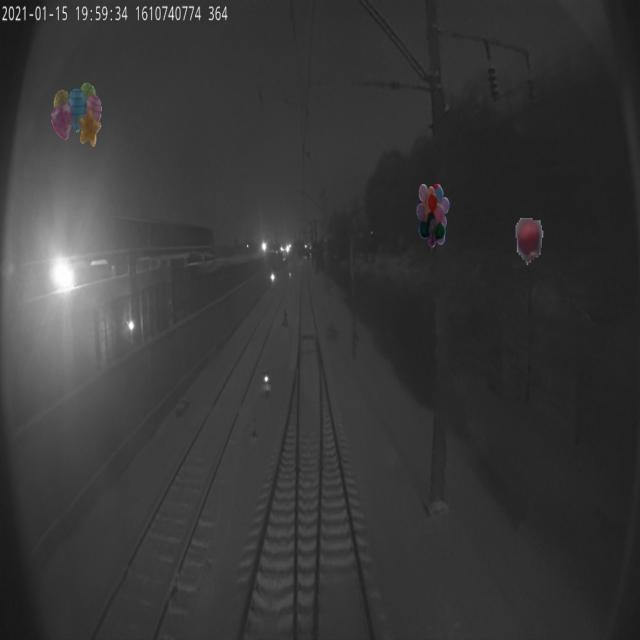balloon: (51, 82, 103, 146), (416, 183, 450, 247)
plastic bag: (509, 212, 547, 276)
